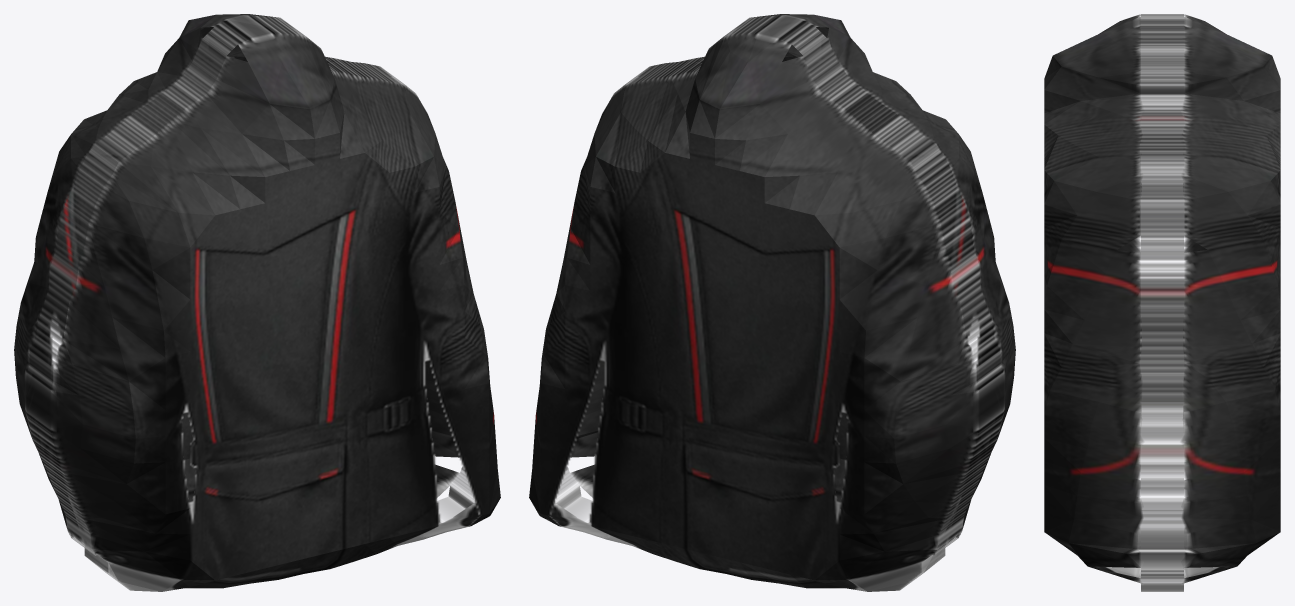
Rendered from schuberth-vantage-textile-jacket-010.glb.
3 renders of one model, left to right at view 1: azimuth 30°, elevation 25°; view 2: azimuth 150°, elevation 25°; view 3: azimuth 270°, elevation 25°, orthographic. The views are drawn at different scales.
Parts seen in each view (by area): view 1: world; view 2: world; view 3: world.
Boxes of the visible parts, x1,y1,x2,y2 form: world: (14, 14, 500, 591); world: (529, 14, 1015, 591); world: (1044, 14, 1280, 591).
Size of the model in its own units: 0.8489 by 1 by 0.44.
Materials: 1 (1 with a texture image).
